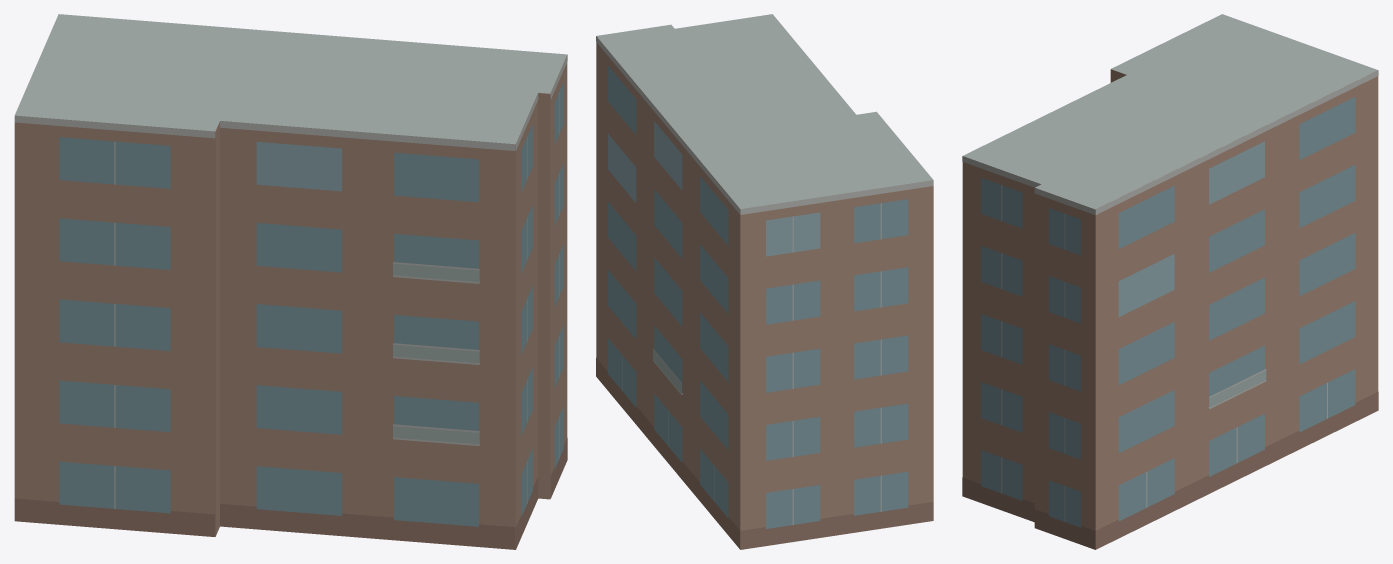
File: survey-upis-32617661.glb
3 renders of one model, left to right at view 1: azimuth 30°, elevation 25°; view 2: azimuth 150°, elevation 25°; view 3: azimuth 270°, elevation 25°, orthographic. The views are drawn at different scales.
Visible parts, largest first — view 1: survey-upis-32617661.tmp; view 2: survey-upis-32617661.tmp; view 3: survey-upis-32617661.tmp.
Part boxes in pixels (x1,y1,x2,y2): survey-upis-32617661.tmp: [14, 14, 567, 549]; survey-upis-32617661.tmp: [596, 14, 933, 549]; survey-upis-32617661.tmp: [962, 14, 1378, 549].
Bounding box in the file's own units: 17.75 × 14.4 × 15.95.
